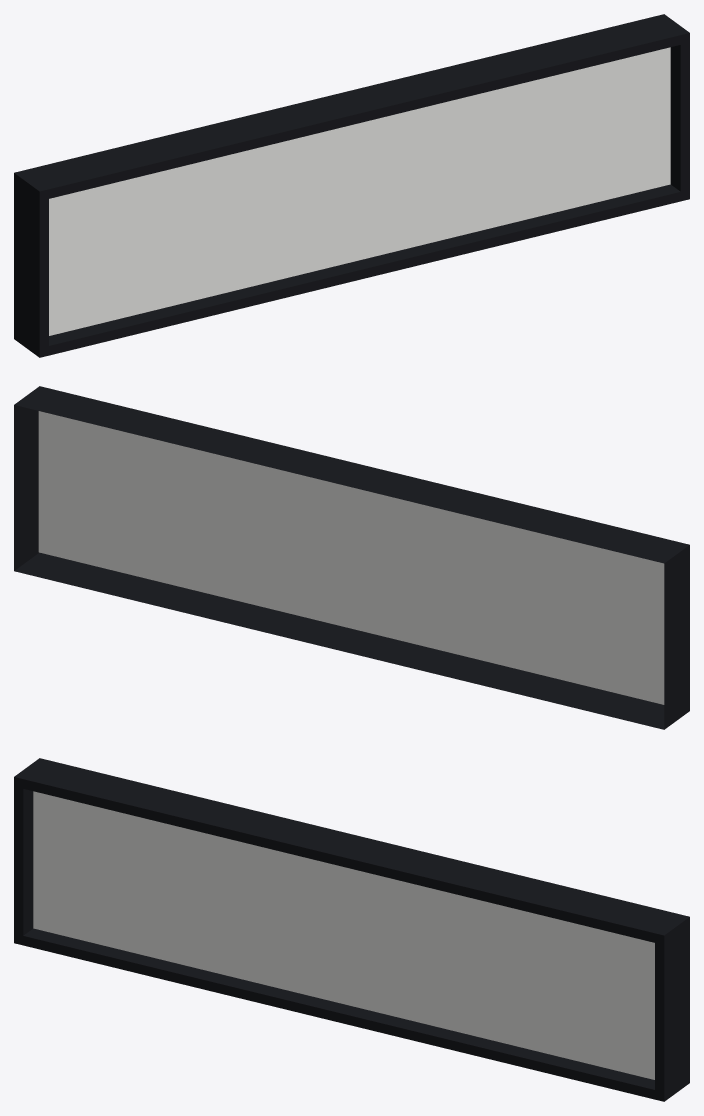
Rendered from SM_lightsign_01.fbx.
3 views of the same model, one above another, from view 1: azimuth 30°, elevation 25°; view 2: azimuth 150°, elevation 25°; view 3: azimuth 330°, elevation 25° (orthographic).
Parts seen in each view (by area): view 1: lightsign_01; view 2: lightsign_01; view 3: lightsign_01.
Boxes of the visible parts, x1,y1,x2,y2 form: lightsign_01: [14, 14, 689, 357]; lightsign_01: [14, 386, 689, 729]; lightsign_01: [14, 758, 689, 1101].
Size of the model in its own units: 99.26 by 24.26 by 6.79.
